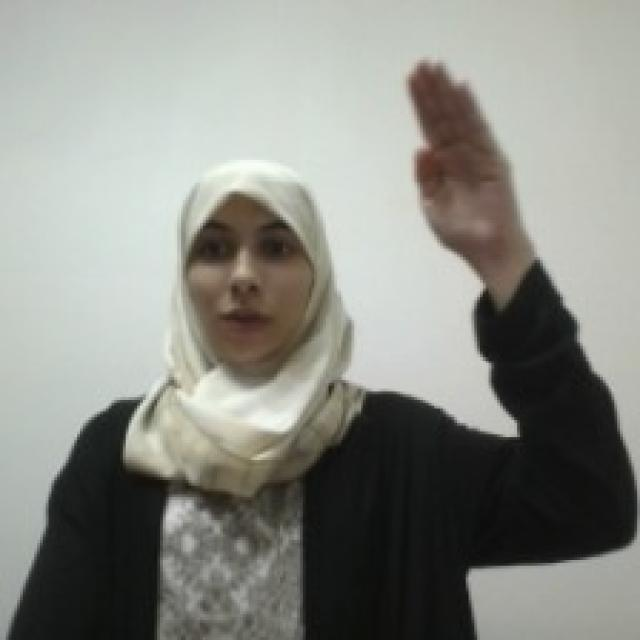Thanks: (406, 51, 524, 255)
